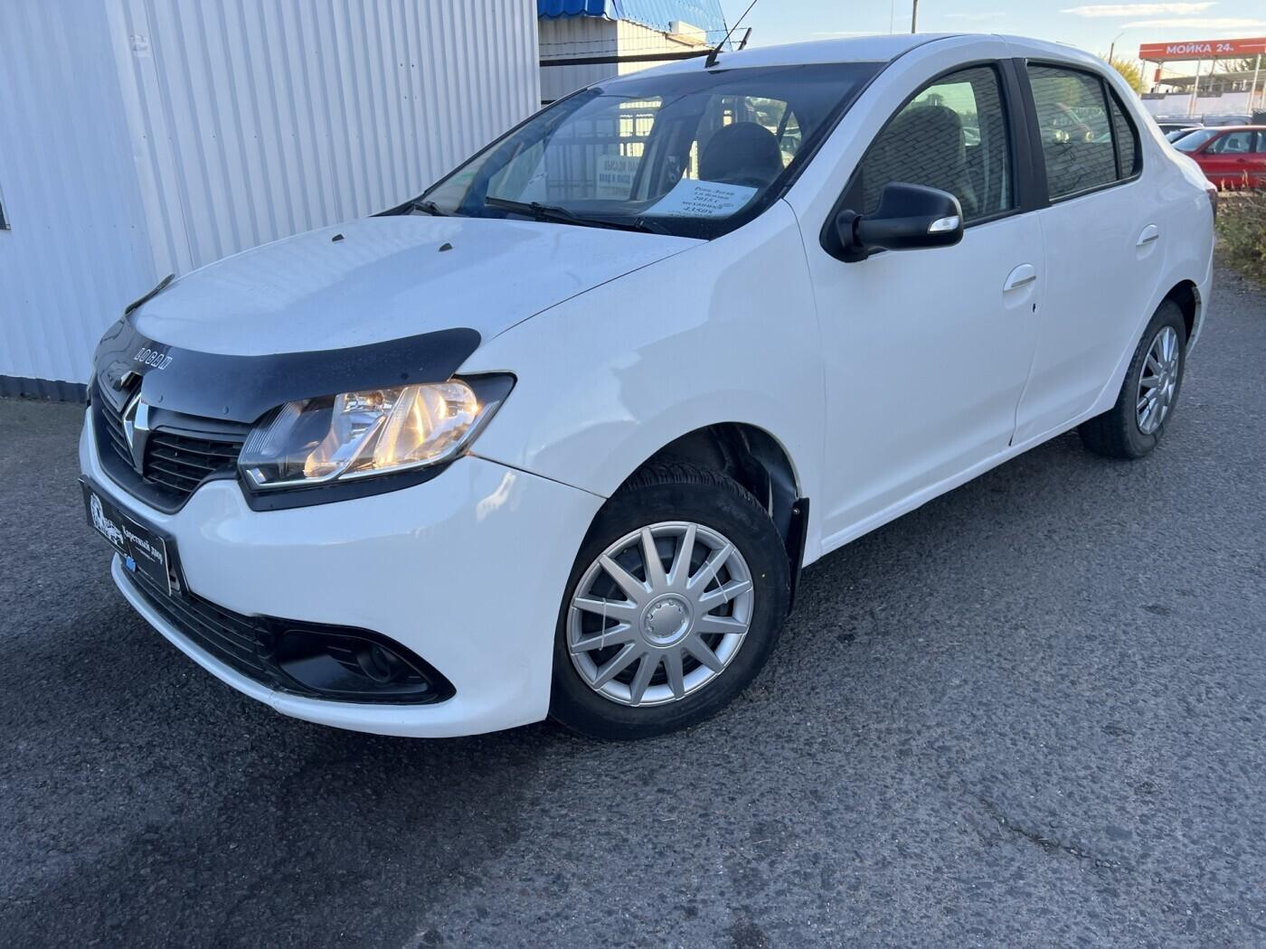Logan_2013-2018: (70, 28, 1230, 744)
